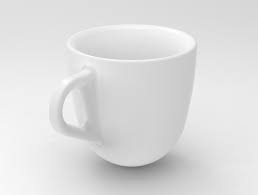cup: (45, 23, 211, 170)
